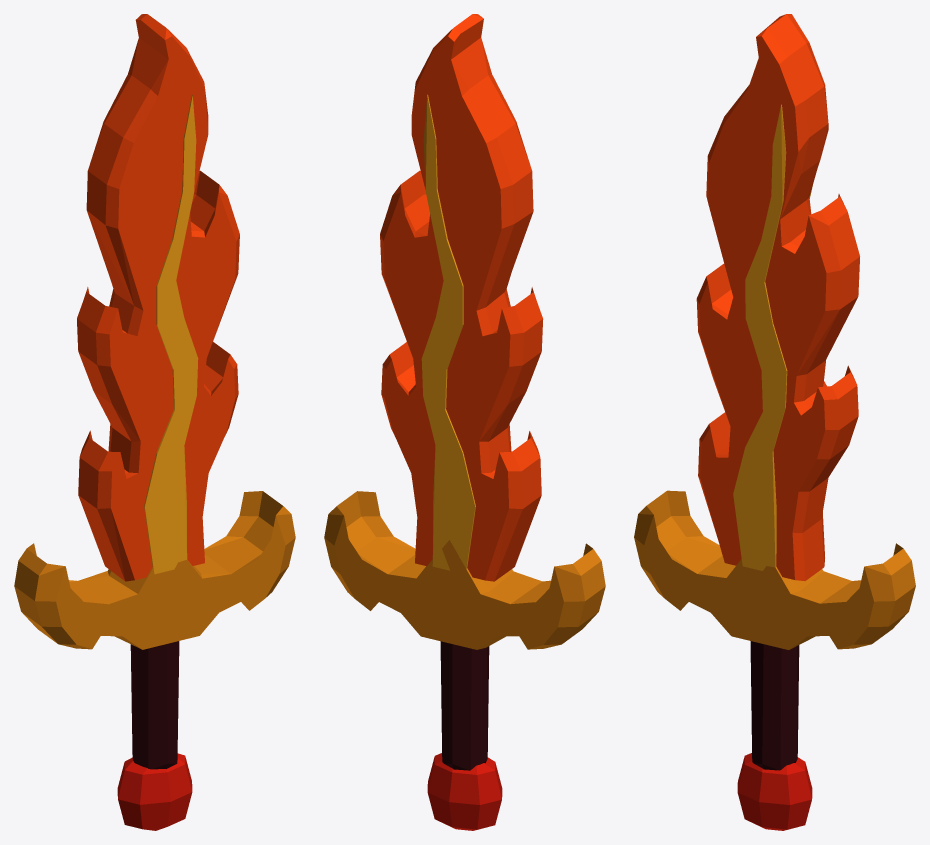
Rendered from BE_PowerMesh_HeldFireSword.fbx.
3 renders of one model, left to right at view 1: azimuth 30°, elevation 25°; view 2: azimuth 150°, elevation 25°; view 3: azimuth 330°, elevation 25°, orthographic.
Parts seen in each view (by area): view 1: BE_PowerMesh_HeldFireSword; view 2: BE_PowerMesh_HeldFireSword; view 3: BE_PowerMesh_HeldFireSword.
Part boxes in pixels (left/top/right/bottom): BE_PowerMesh_HeldFireSword: left=14, top=14, right=295, bottom=830; BE_PowerMesh_HeldFireSword: left=324, top=14, right=605, bottom=830; BE_PowerMesh_HeldFireSword: left=634, top=14, right=915, bottom=830.
Size of the model in its own units: 190 by 560 by 40.45.
1 material, 1 textured.
